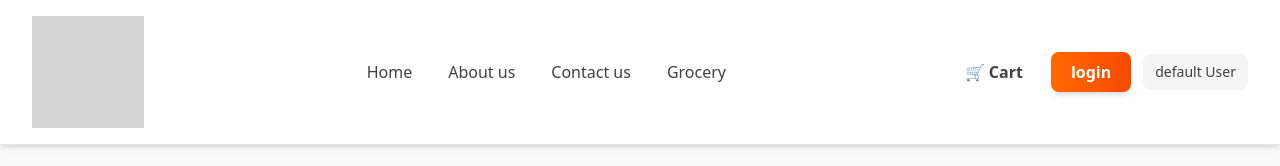
Test: Should chnage login button to logoout on click
The image size is (1280, 166).
Click the button "login".
click(1091, 72)  # box [1051,52,1131,92]
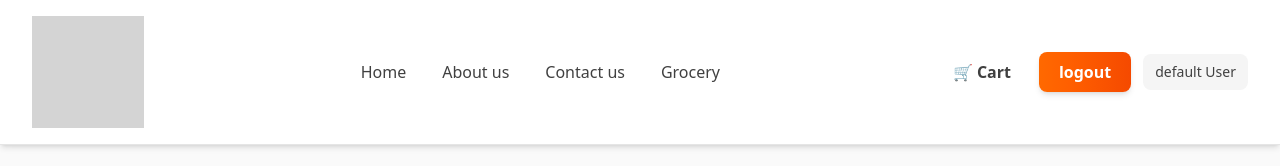
expect the button "logout" is shown: met, box [1039,52,1131,92]
